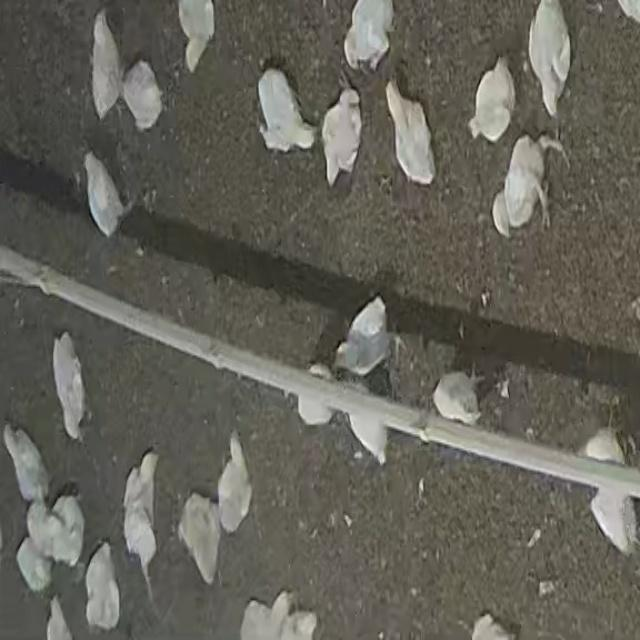chicken: (490, 124, 572, 242), (381, 72, 440, 190), (119, 445, 162, 597), (254, 64, 319, 160), (525, 0, 576, 119), (331, 292, 404, 373), (47, 330, 95, 447), (319, 69, 364, 192), (81, 147, 137, 244), (463, 51, 520, 142), (175, 488, 224, 590), (217, 424, 255, 544), (89, 7, 123, 123), (85, 538, 123, 636), (431, 364, 492, 424), (126, 56, 168, 136)
